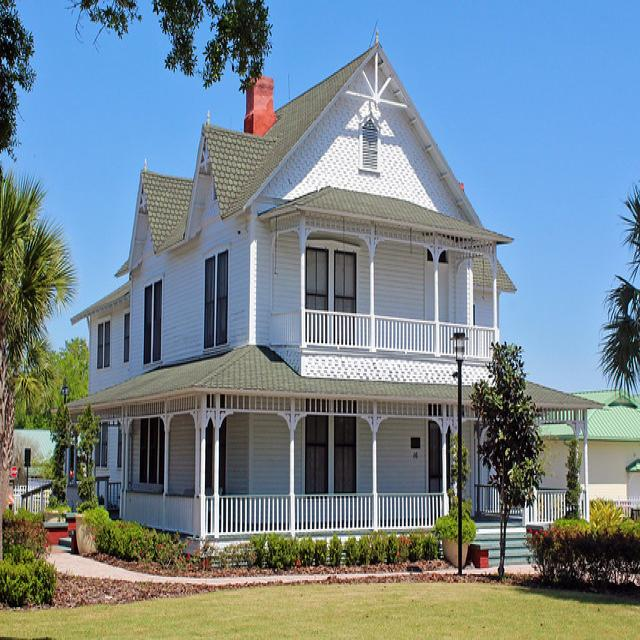building: (69, 36, 506, 570)
